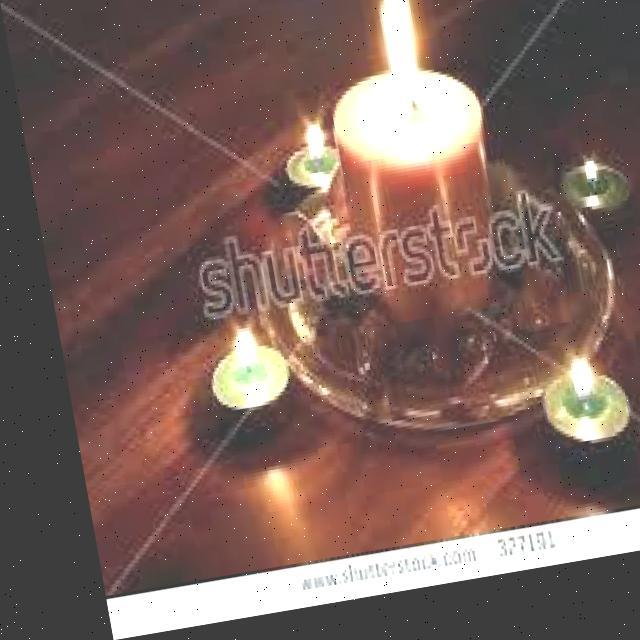Fire: (356, 0, 444, 139)
